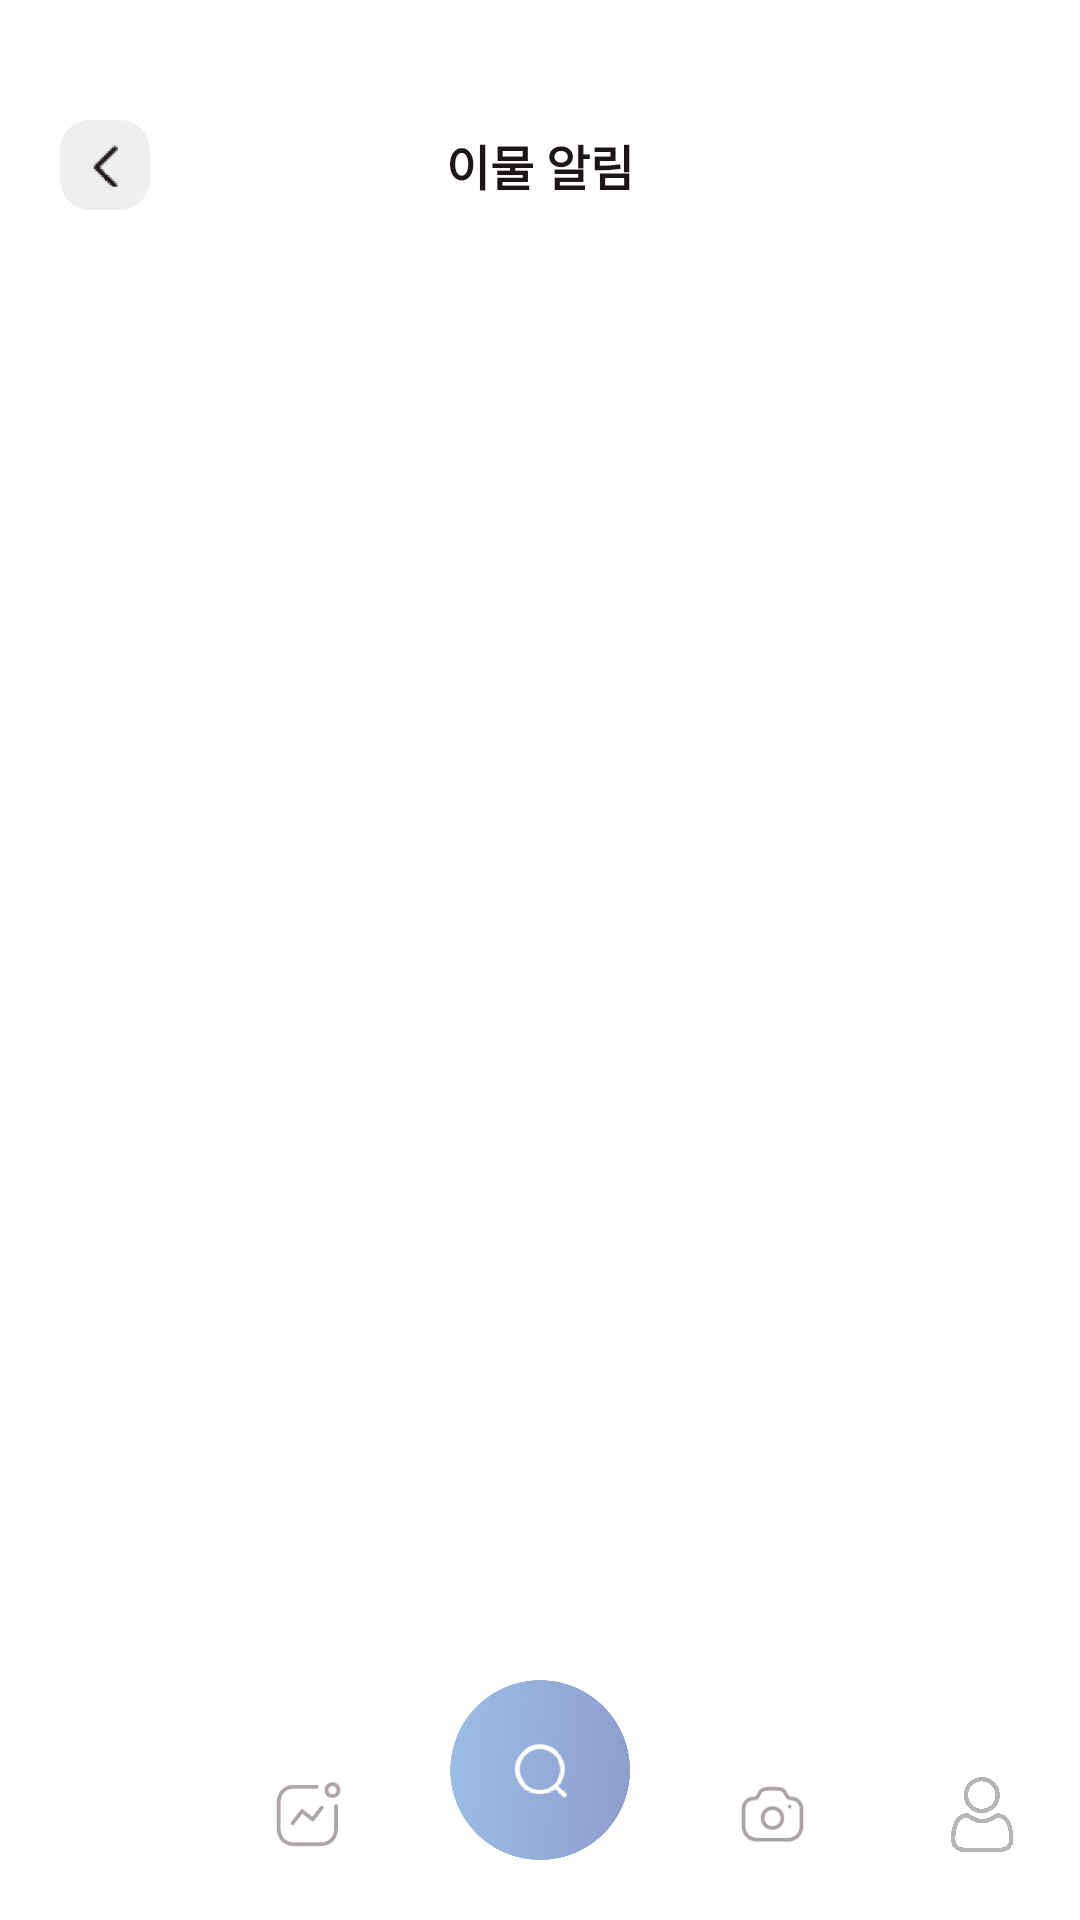

Icon click points for this 1080 × 1920 phone screenshot, format [x,y]:
back: [105,165]
navbar camera: [772,1814]
navbar photo: [309,1814]
navbar profile: [982,1814]
navbar search: [540,1770]
